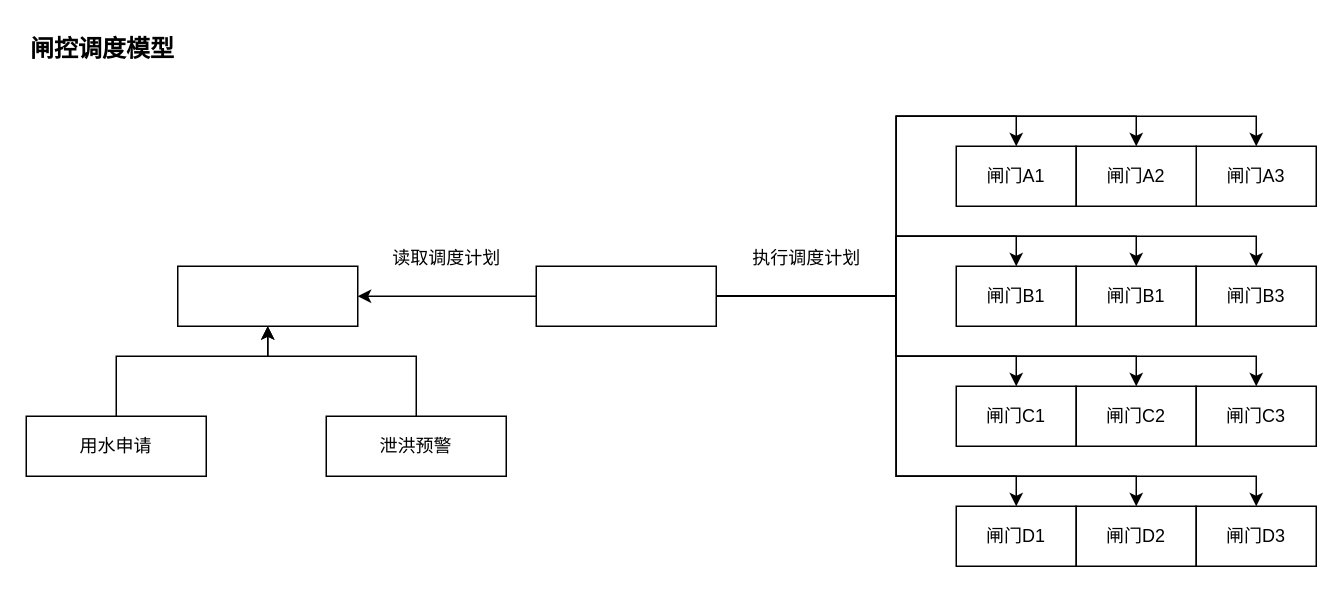
This 1343x593 diagram has some shape labels left out. Here are the shapes that lost their labels. From the top down, the centre of each, then its label:
pixel 267 295: 调度计划
pixel 625 295: 控制中枢
